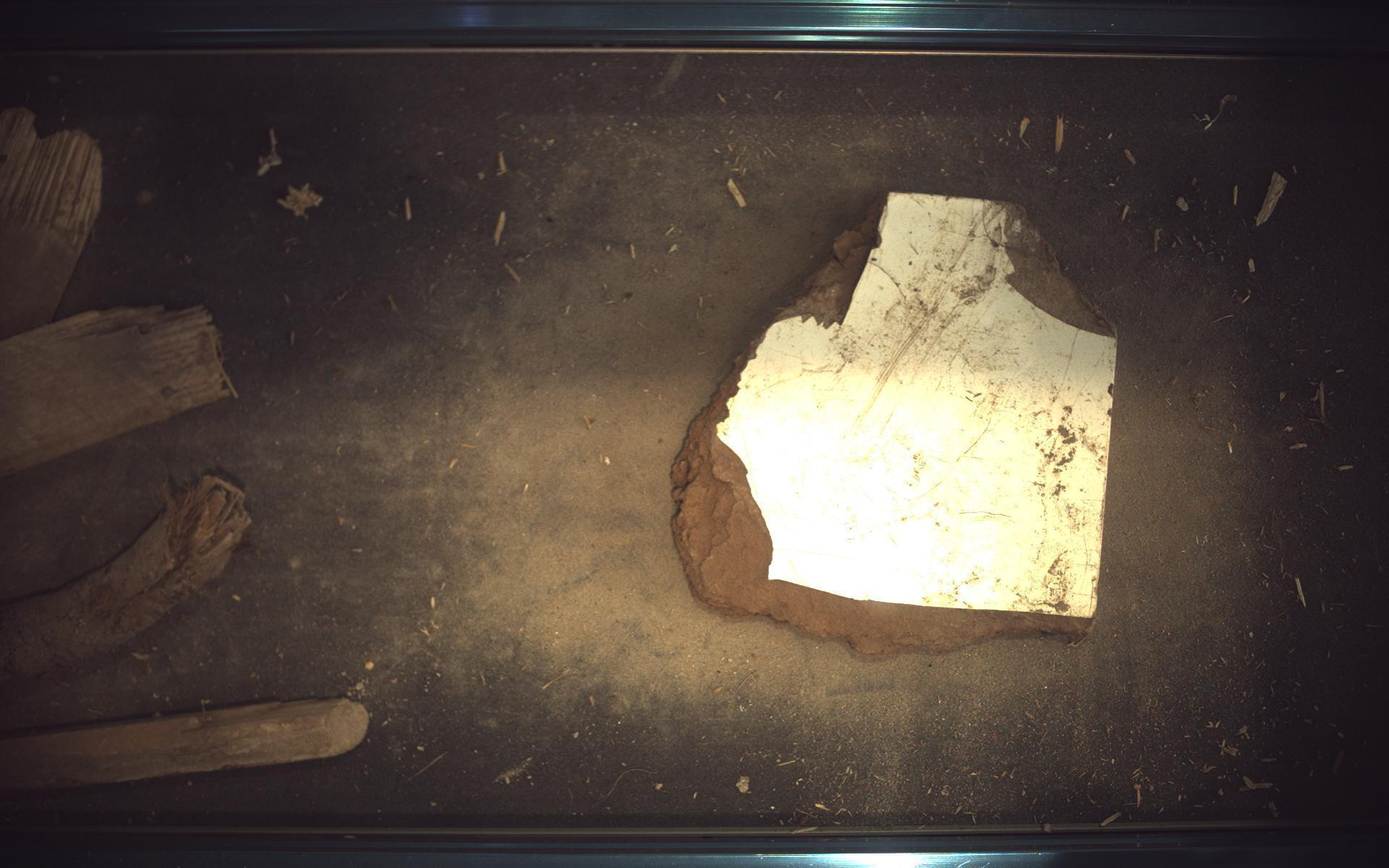wood: (673, 192, 1119, 656), (2, 476, 250, 678), (1, 306, 235, 477), (1, 699, 369, 793), (1, 106, 101, 338)
